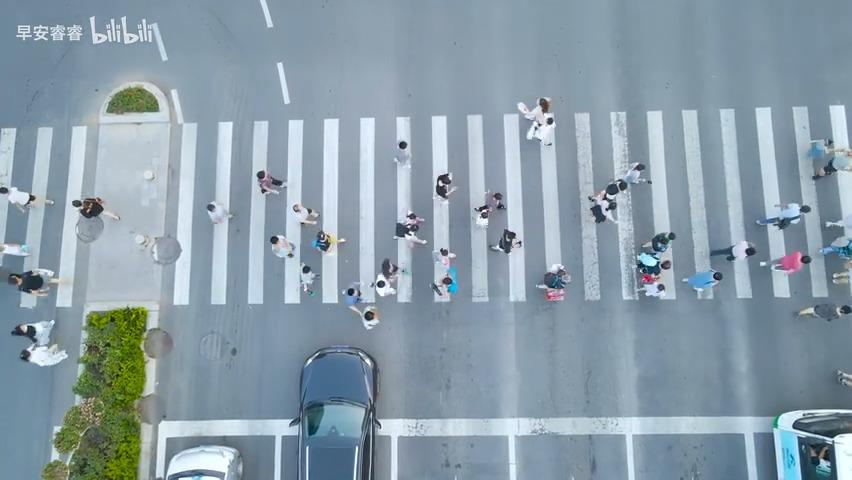Civilian: (587, 161, 651, 223), (516, 96, 556, 146), (807, 138, 851, 179), (755, 202, 811, 230), (0, 185, 54, 213), (7, 268, 57, 295), (759, 250, 812, 275), (71, 196, 120, 221), (10, 319, 55, 346), (682, 269, 722, 299), (369, 258, 399, 297), (636, 251, 671, 281), (793, 302, 851, 320), (709, 240, 756, 261), (587, 191, 617, 223), (589, 178, 627, 202), (392, 221, 427, 247), (489, 228, 522, 254), (256, 169, 287, 195), (347, 304, 379, 329), (311, 229, 345, 252), (641, 231, 675, 254), (818, 236, 851, 259), (543, 263, 570, 289), (206, 200, 234, 224), (623, 161, 651, 185), (434, 171, 457, 200), (299, 263, 319, 296), (269, 234, 295, 258), (824, 213, 851, 236), (292, 203, 319, 225), (811, 158, 838, 179), (392, 140, 411, 167), (429, 275, 453, 296), (823, 138, 851, 156), (432, 247, 456, 267), (473, 204, 492, 227), (0, 242, 29, 255), (405, 209, 425, 225), (836, 368, 851, 388), (491, 191, 505, 209)
